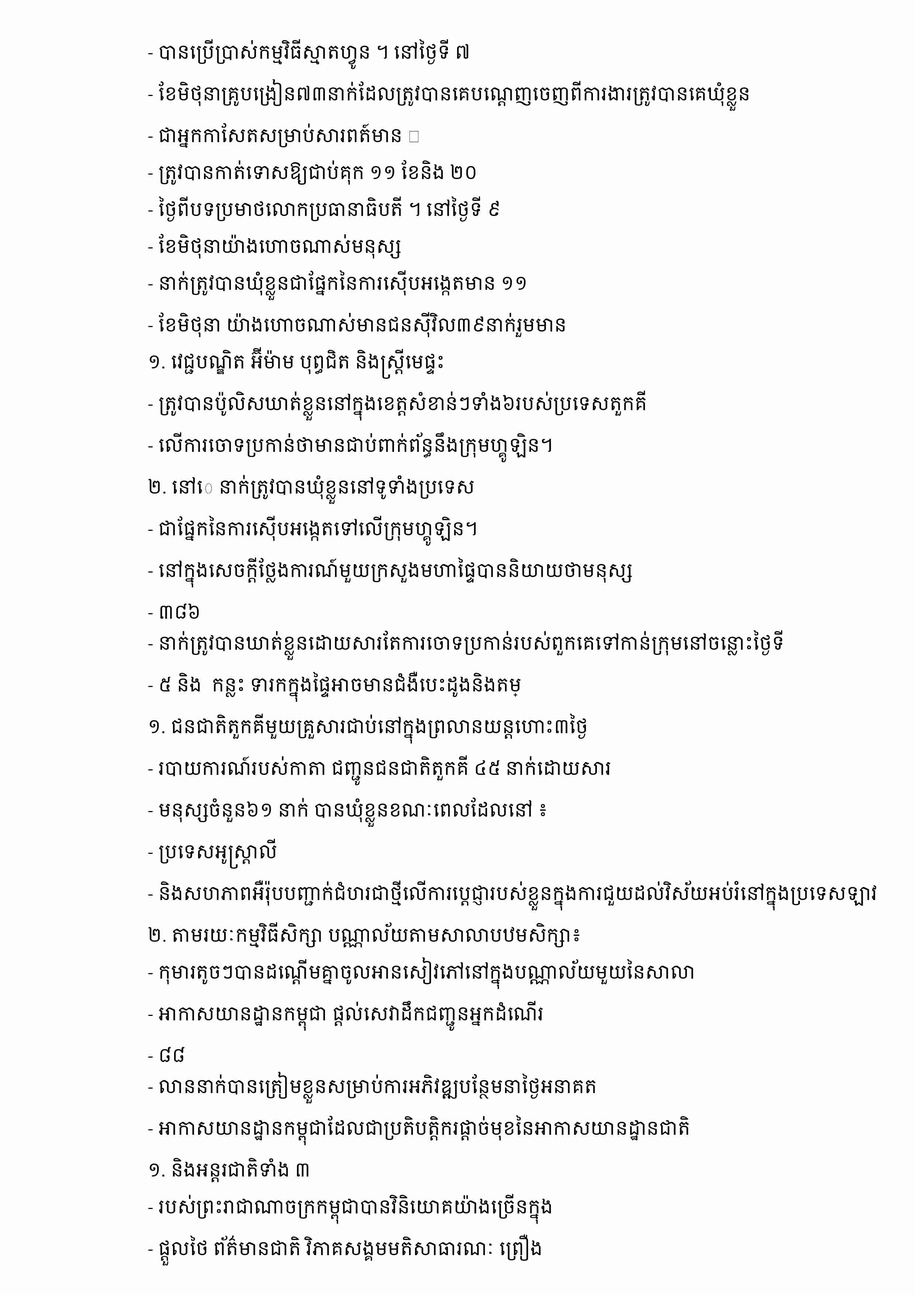text: (148, 880, 882, 911), (148, 79, 756, 111), (148, 630, 789, 660), (148, 957, 700, 989), (148, 1115, 695, 1145), (148, 557, 638, 588), (148, 391, 652, 421), (148, 1072, 602, 1104), (148, 755, 616, 786), (148, 714, 593, 744), (148, 1234, 548, 1266), (148, 432, 558, 463), (148, 1194, 558, 1224), (148, 797, 553, 827), (148, 1001, 549, 1031), (148, 671, 526, 702), (148, 270, 532, 300), (148, 922, 586, 948), (148, 312, 572, 337), (148, 516, 483, 546), (148, 39, 475, 69), (148, 347, 449, 379), (148, 475, 480, 504), (148, 196, 505, 222), (148, 160, 483, 185), (148, 123, 426, 148), (148, 234, 406, 259), (148, 839, 282, 869), (148, 1158, 315, 1182), (148, 603, 206, 619), (148, 1047, 190, 1062)
